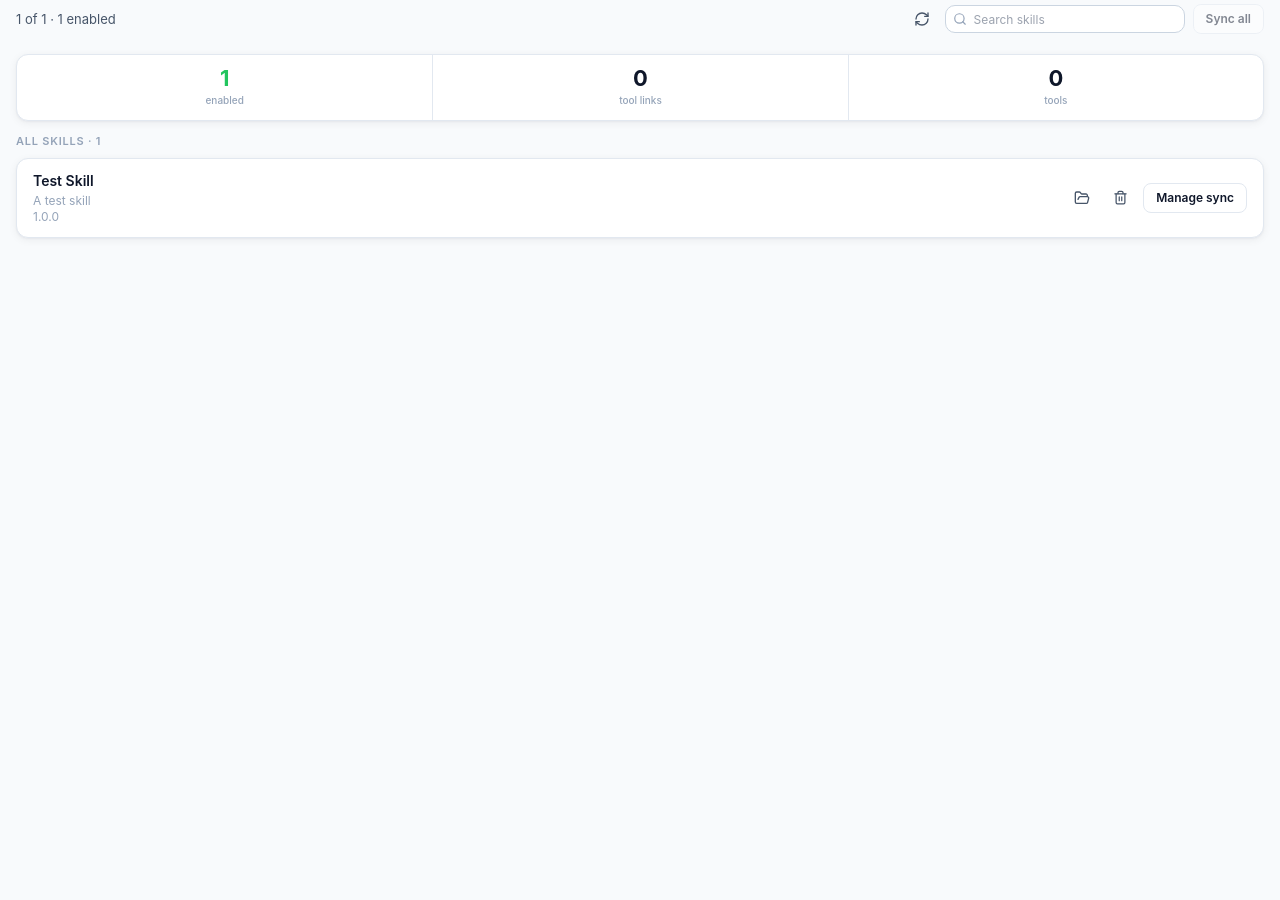
Test case: MySkillsPage › keeps the row visible and shows details when uninstall reports failure
The image size is (1280, 900).
Click the button named "Delete Test Skill": (1120,198) [1105,182,1135,212]
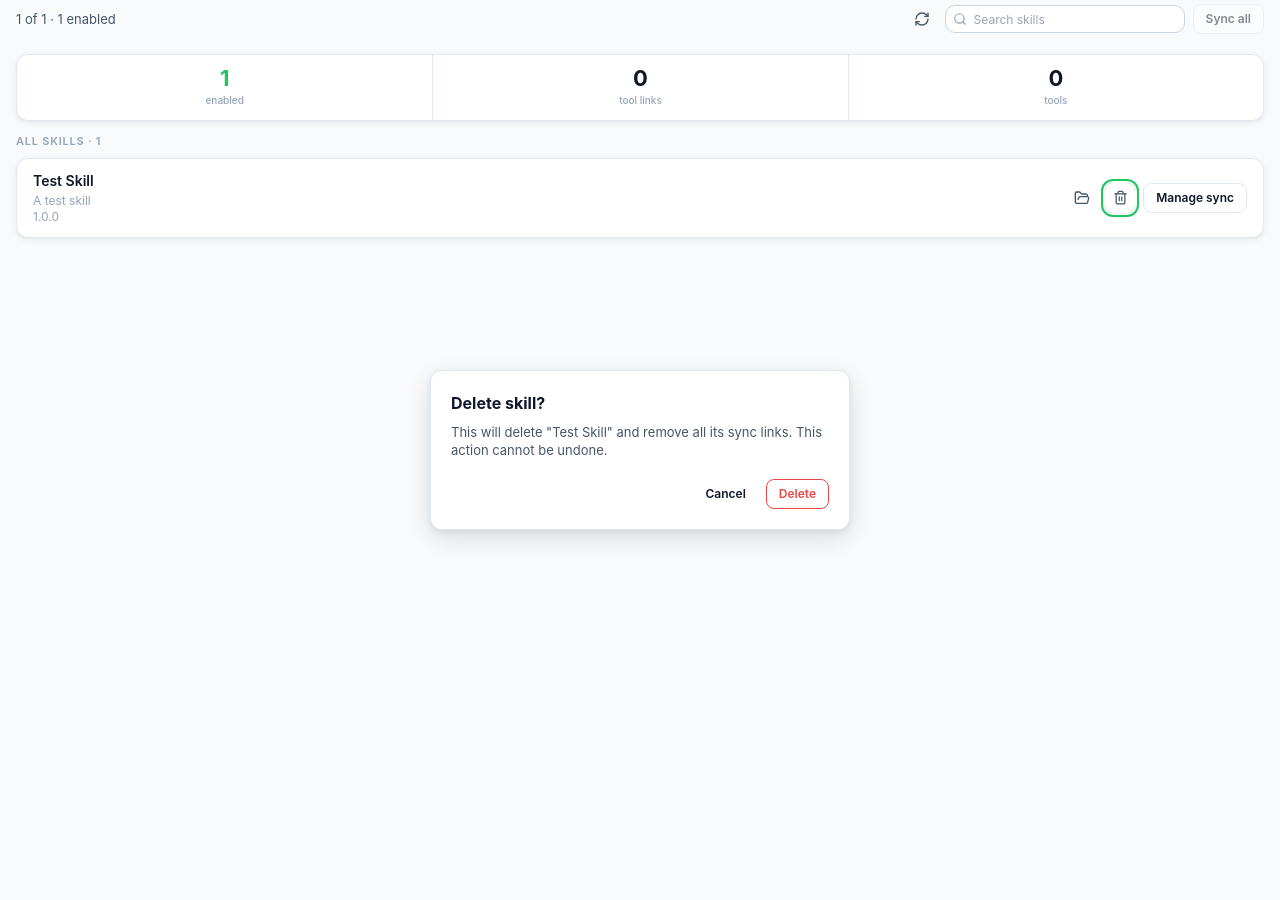
Click the button "Delete": (797,494) [766,479,829,509]
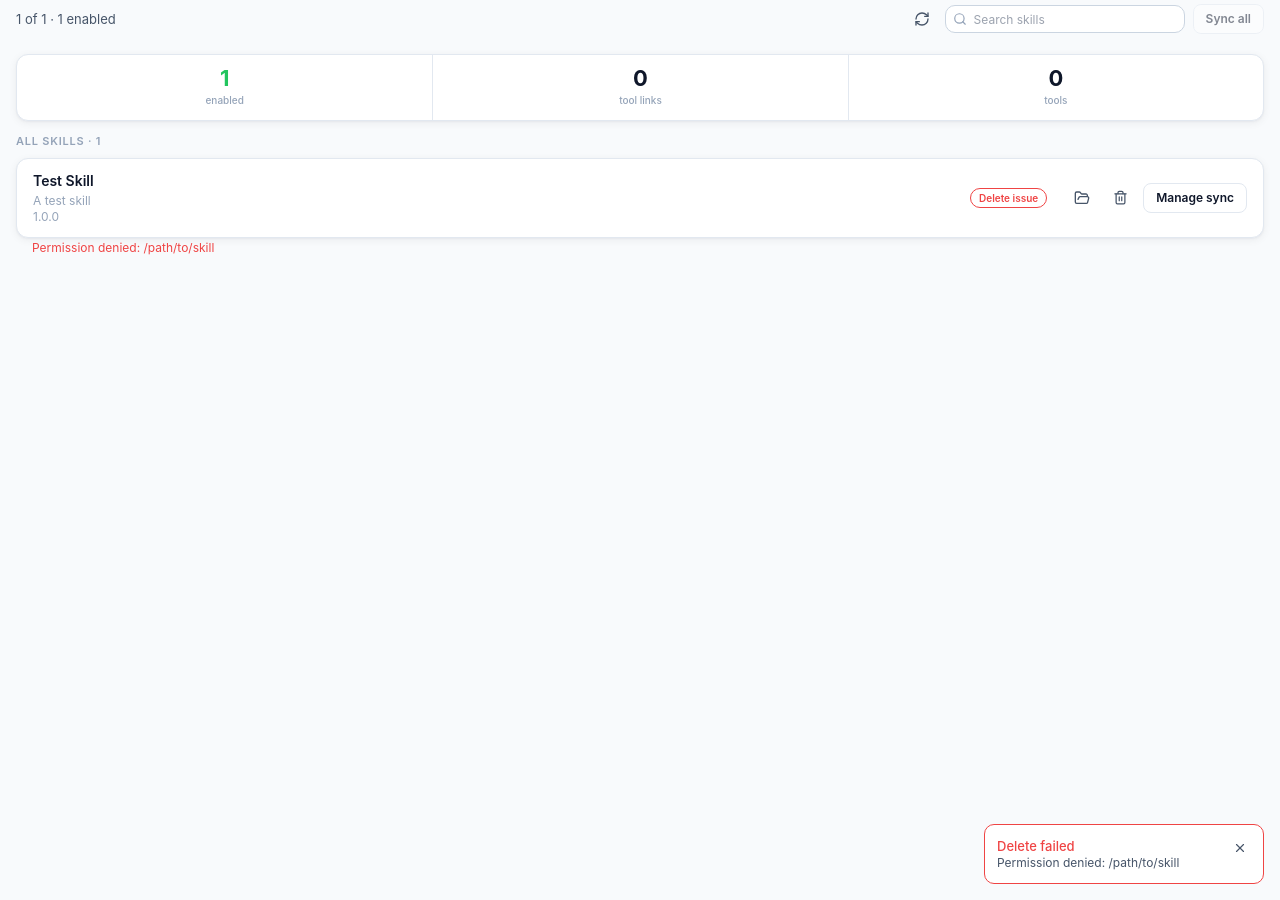
Expected: the text "Test Skill" is shown, [33,172,94,188]
Expected: the text "Delete issue" is shown, [970,188,1047,208]
